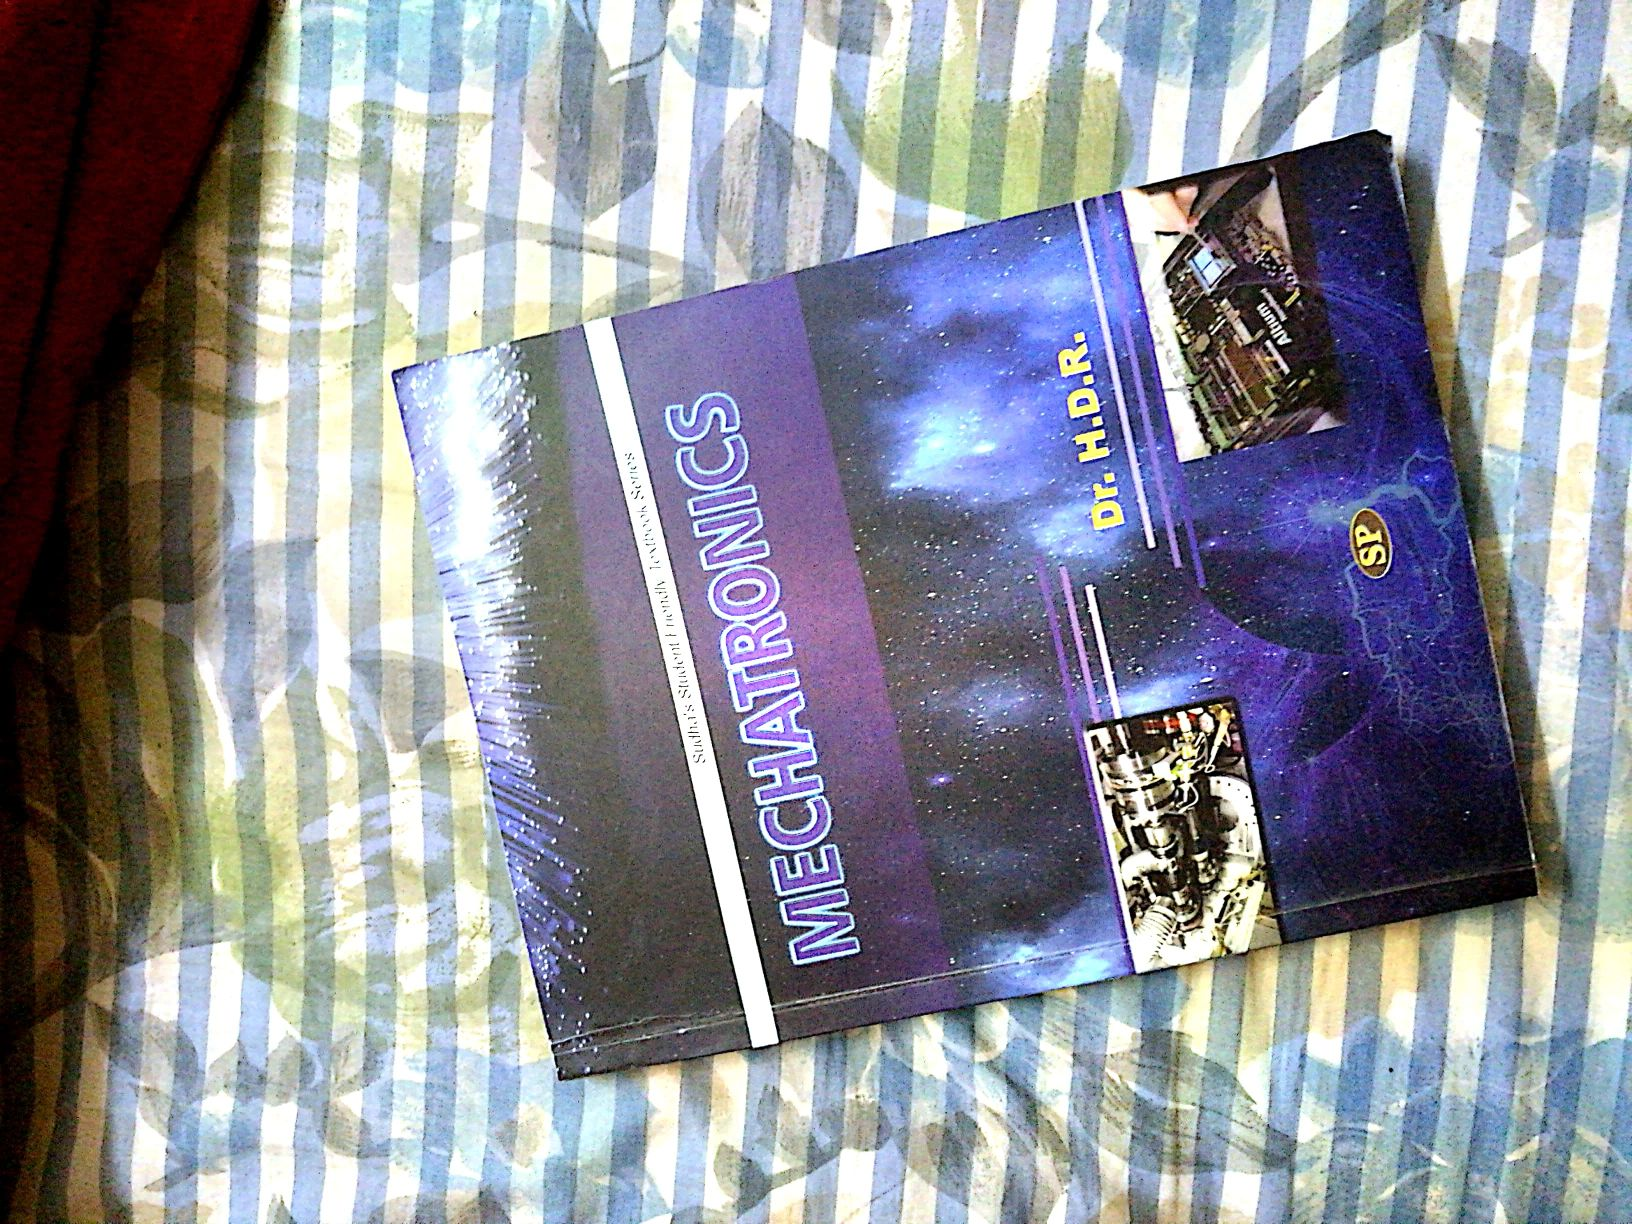mechatronics: (436, 220, 1536, 1065)
